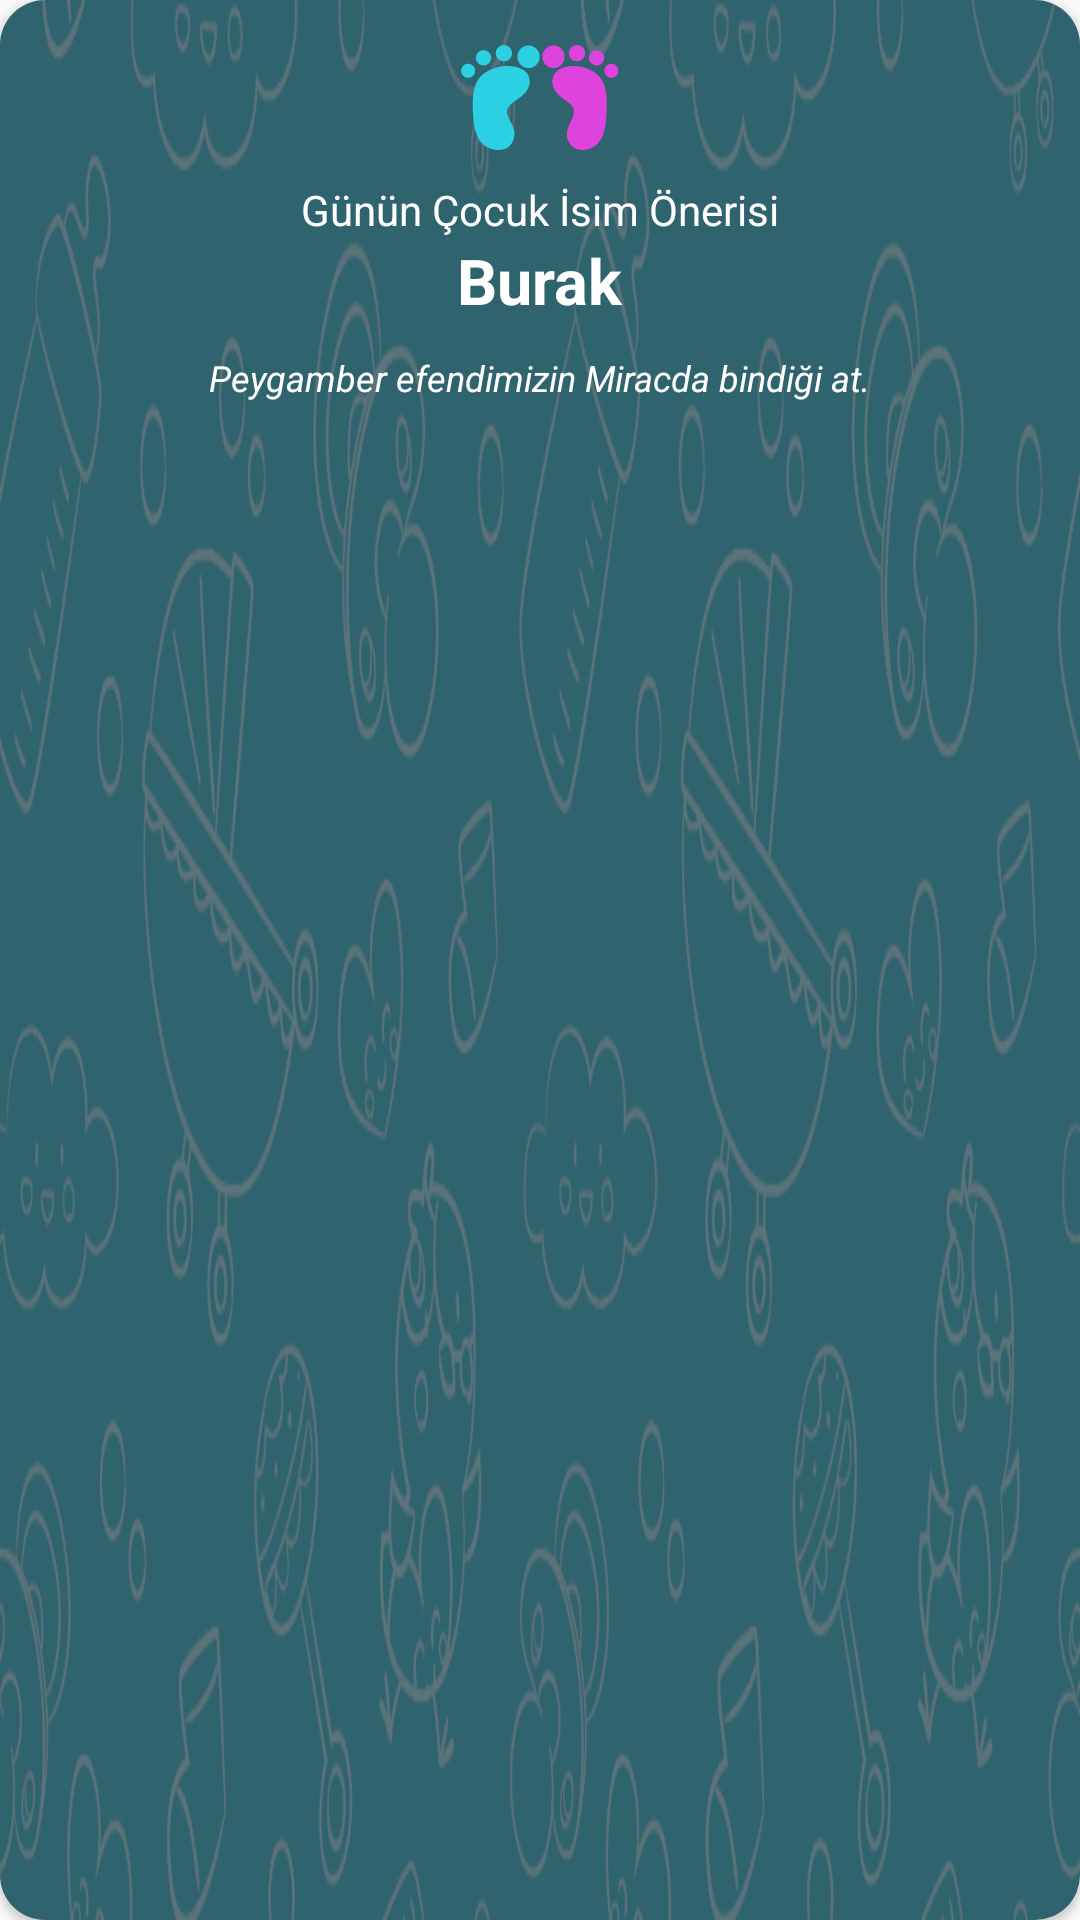

Screen size 1080×1920. Icon name, then its center in pixels as (x,y):
ayak: (540,97)
